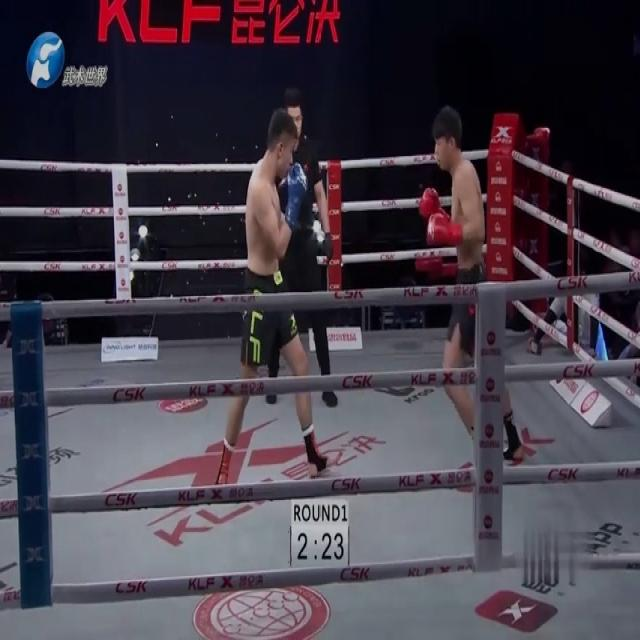fight: (215, 93, 512, 487)
non-fight: (277, 87, 340, 405), (527, 287, 590, 360), (614, 307, 639, 393)
